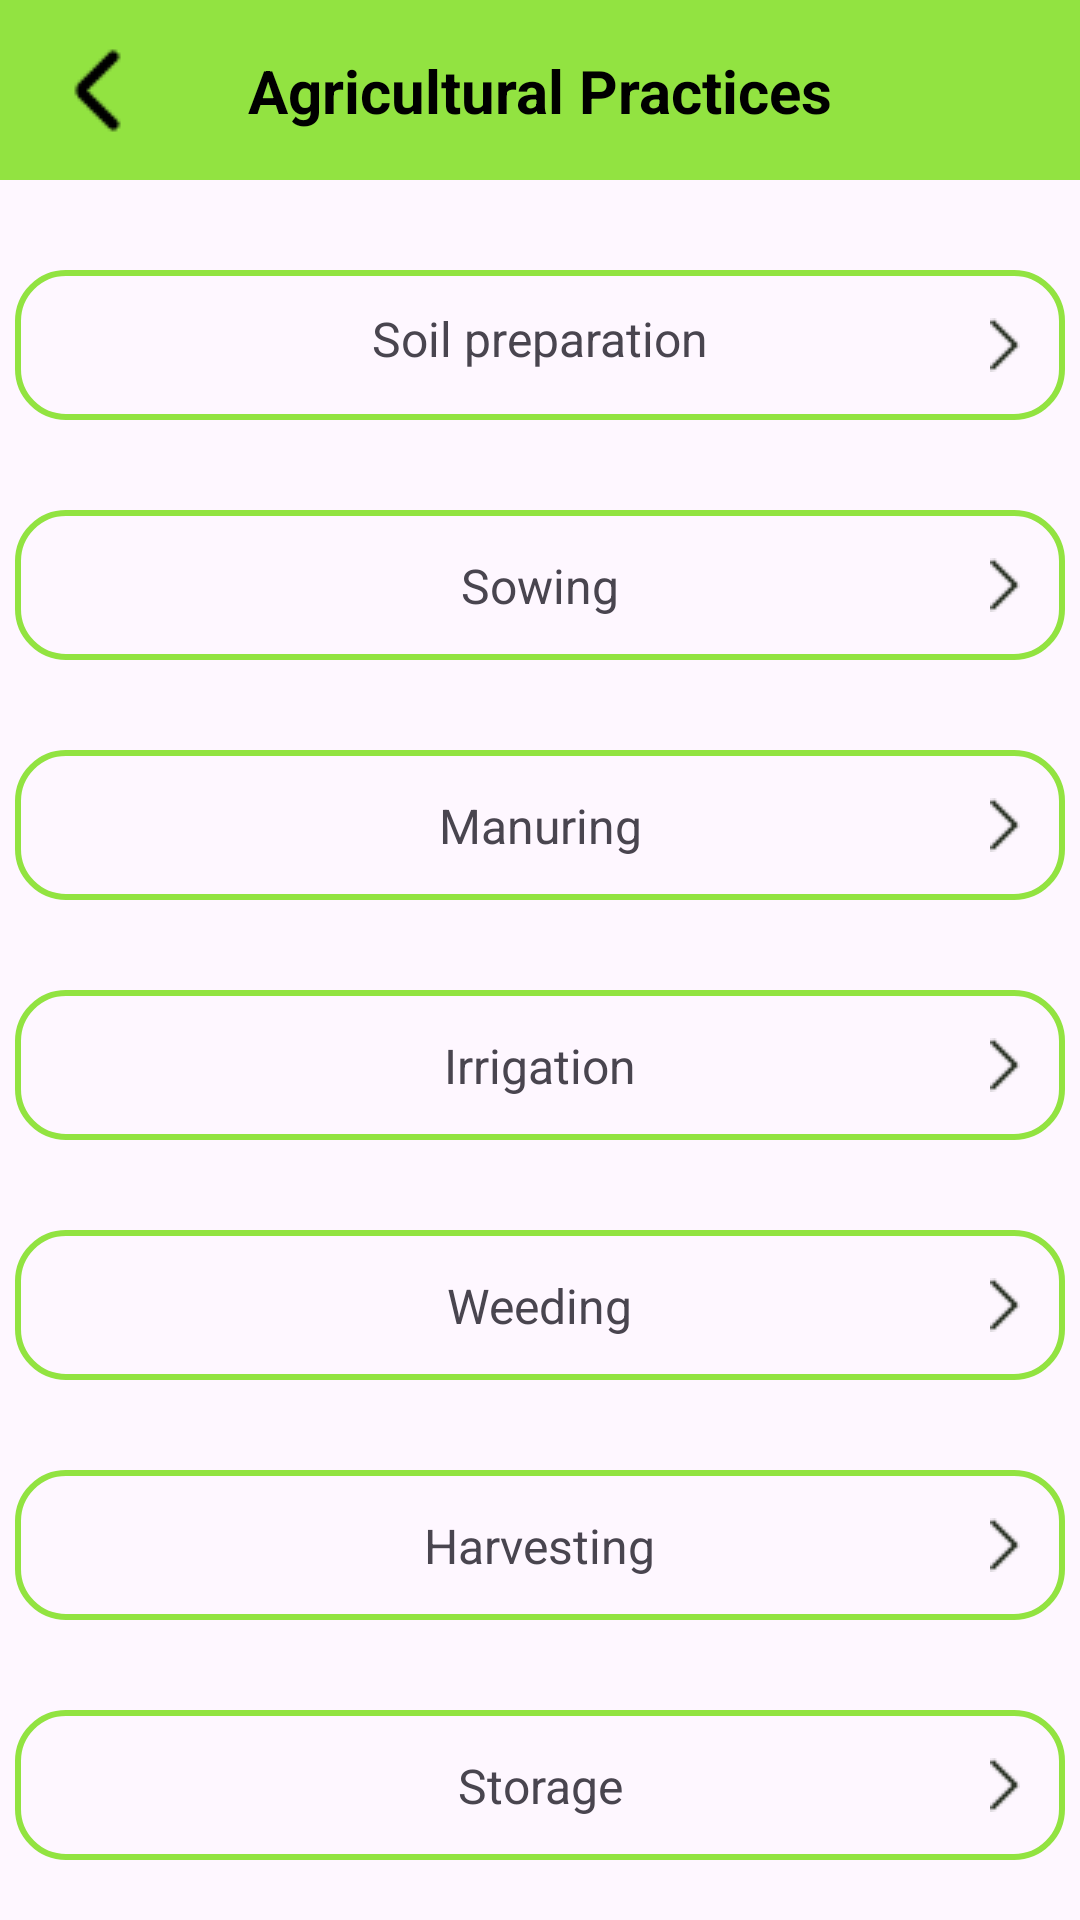

Where icons sit on this 1080px x 1920px app screen, as detection(x1, y1, x2, y2):
back arrow: detection(74, 49, 121, 132)
